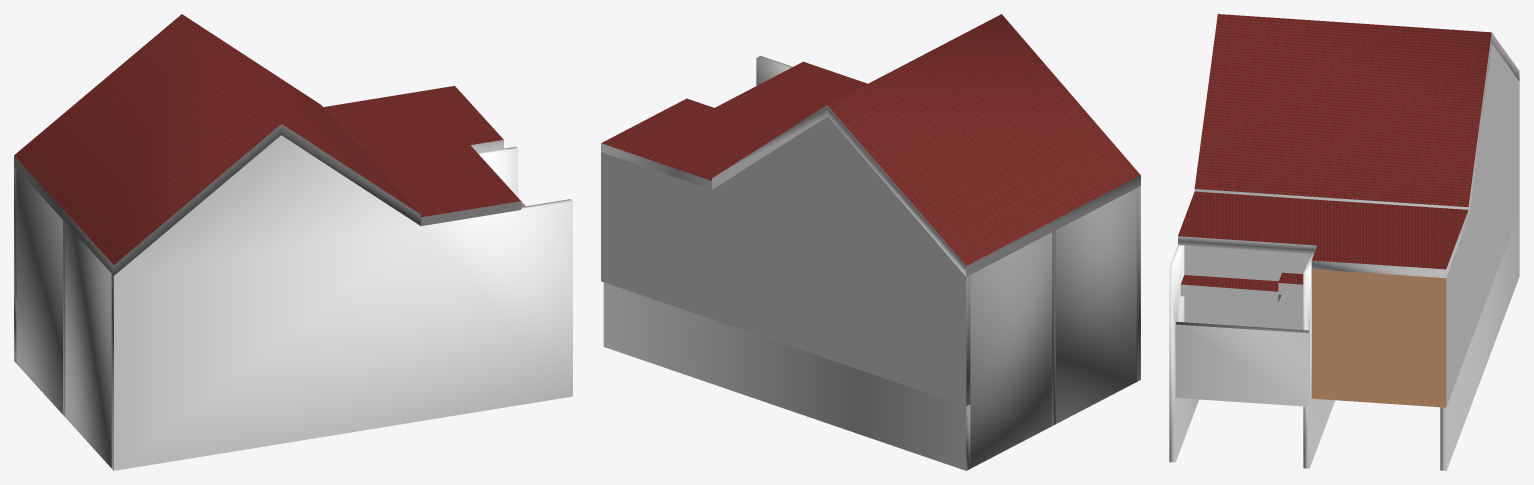
The model's file is sepatumodern.glb.
3 renders of one model, left to right at view 1: azimuth 30°, elevation 25°; view 2: azimuth 150°, elevation 25°; view 3: azimuth 270°, elevation 25°, orthographic.
Parts seen in each view (by area): view 1: Mesh14 Generic___200mm4_1 Group1 Model, Mesh10 Generic_Roof___300mm1 Group1 Model, Mesh4 Generic___200mm5_1 Group1 Model, Mesh13 Generic___200mm3_1 Group1 Model, Mesh6 Generic_Roof___300mm14_1 Group1 Model, Mesh11 Generic_Roof___300mm13_1 Group1 Model, Mesh7 Generic___200mm2_1 Group1 Model; view 2: Mesh12 Generic___200mm15_1 Group1 Model, Mesh10 Generic_Roof___300mm1 Group1 Model, Mesh8 Generic___200mm1 Group1 Model, Mesh13 Generic___200mm3_1 Group1 Model, Mesh4 Generic___200mm5_1 Group1 Model, Mesh6 Generic_Roof___300mm14_1 Group1 Model, Mesh11 Generic_Roof___300mm13_1 Group1 Model, Mesh14 Generic___200mm4_1 Group1 Model, Mesh7 Generic___200mm2_1 Group1 Model; view 3: Mesh10 Generic_Roof___300mm1 Group1 Model, Mesh15 Generic___200mm7_1 Group1 Model, Mesh12 Generic___200mm15_1 Group1 Model, Mesh2 Generic___200mm6_1 Group1 Model, Mesh6 Generic_Roof___300mm14_1 Group1 Model, Mesh11 Generic_Roof___300mm13_1 Group1 Model, Mesh3 Generic___200mm9_1 Group1 Model, Mesh8 Generic___200mm1 Group1 Model, Mesh14 Generic___200mm4_1 Group1 Model, Mesh9 Generic_Floor___400mm1 Group1 Model, Mesh7 Generic___200mm2_1 Group1 Model, Mesh5 Generic_Floor___400mm11_1 Group1 Model.
Boxes of the visible parts, <box> form: Mesh14 Generic___200mm4_1 Group1 Model: <box>111,135,572,470</box>; Mesh10 Generic_Roof___300mm1 Group1 Model: <box>14,14,420,275</box>; Mesh4 Generic___200mm5_1 Group1 Model: <box>65,223,111,467</box>; Mesh13 Generic___200mm3_1 Group1 Model: <box>16,169,62,414</box>; Mesh6 Generic_Roof___300mm14_1 Group1 Model: <box>323,86,503,160</box>; Mesh11 Generic_Roof___300mm13_1 Group1 Model: <box>372,145,521,225</box>; Mesh7 Generic___200mm2_1 Group1 Model: <box>63,146,518,416</box>; Mesh12 Generic___200mm15_1 Group1 Model: <box>601,116,970,406</box>; Mesh10 Generic_Roof___300mm1 Group1 Model: <box>712,14,1140,276</box>; Mesh8 Generic___200mm1 Group1 Model: <box>603,282,970,470</box>; Mesh13 Generic___200mm3_1 Group1 Model: <box>970,232,1051,468</box>; Mesh4 Generic___200mm5_1 Group1 Model: <box>1056,188,1136,423</box>; Mesh6 Generic_Roof___300mm14_1 Group1 Model: <box>601,98,784,189</box>; Mesh11 Generic_Roof___300mm13_1 Group1 Model: <box>715,61,867,131</box>; Mesh14 Generic___200mm4_1 Group1 Model: <box>756,56,1140,381</box>; Mesh7 Generic___200mm2_1 Group1 Model: <box>1052,230,1055,425</box>; Mesh10 Generic_Roof___300mm1 Group1 Model: <box>1194,14,1519,215</box>; Mesh15 Generic___200mm7_1 Group1 Model: <box>1311,269,1439,407</box>; Mesh12 Generic___200mm15_1 Group1 Model: <box>1439,43,1519,407</box>; Mesh2 Generic___200mm6_1 Group1 Model: <box>1175,321,1309,406</box>; Mesh6 Generic_Roof___300mm14_1 Group1 Model: <box>1311,201,1468,278</box>; Mesh11 Generic_Roof___300mm13_1 Group1 Model: <box>1178,191,1333,253</box>; Mesh3 Generic___200mm9_1 Group1 Model: <box>1184,245,1310,329</box>; Mesh8 Generic___200mm1 Group1 Model: <box>1440,212,1519,470</box>; Mesh14 Generic___200mm4_1 Group1 Model: <box>1169,245,1198,462</box>; Mesh9 Generic_Floor___400mm1 Group1 Model: <box>1180,275,1281,303</box>; Mesh7 Generic___200mm2_1 Group1 Model: <box>1303,254,1334,468</box>; Mesh5 Generic_Floor___400mm11_1 Group1 Model: <box>1278,272,1303,296</box>.
Bounding box in the file's own units: 15.66 × 10.84 × 10.81.
Materials: 4 (1 with a texture image).
